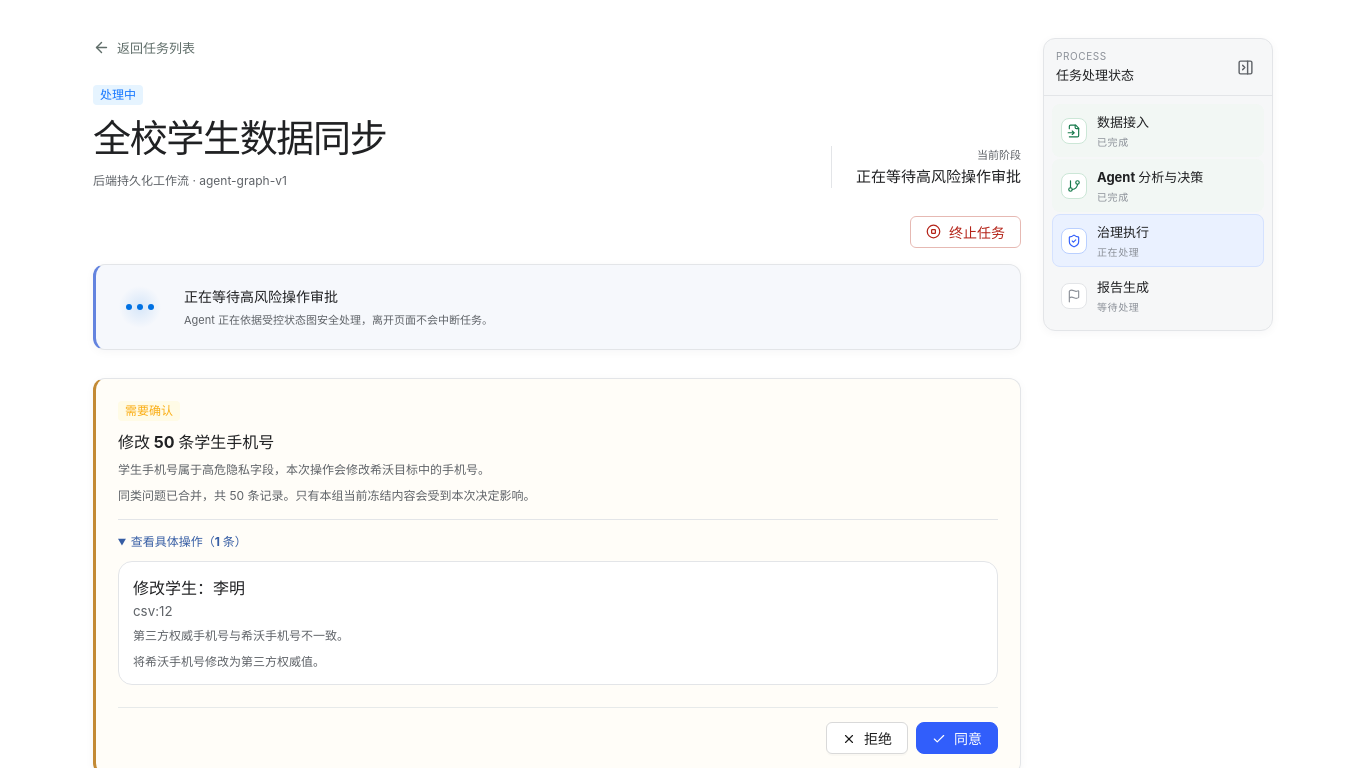
Scenario: controlled Agent graph task detail › keeps independent decisions on visually distinct approval groups
Click the button "同意": coordinates (957, 738) 916,722 -> 998,754
(page scrolled)
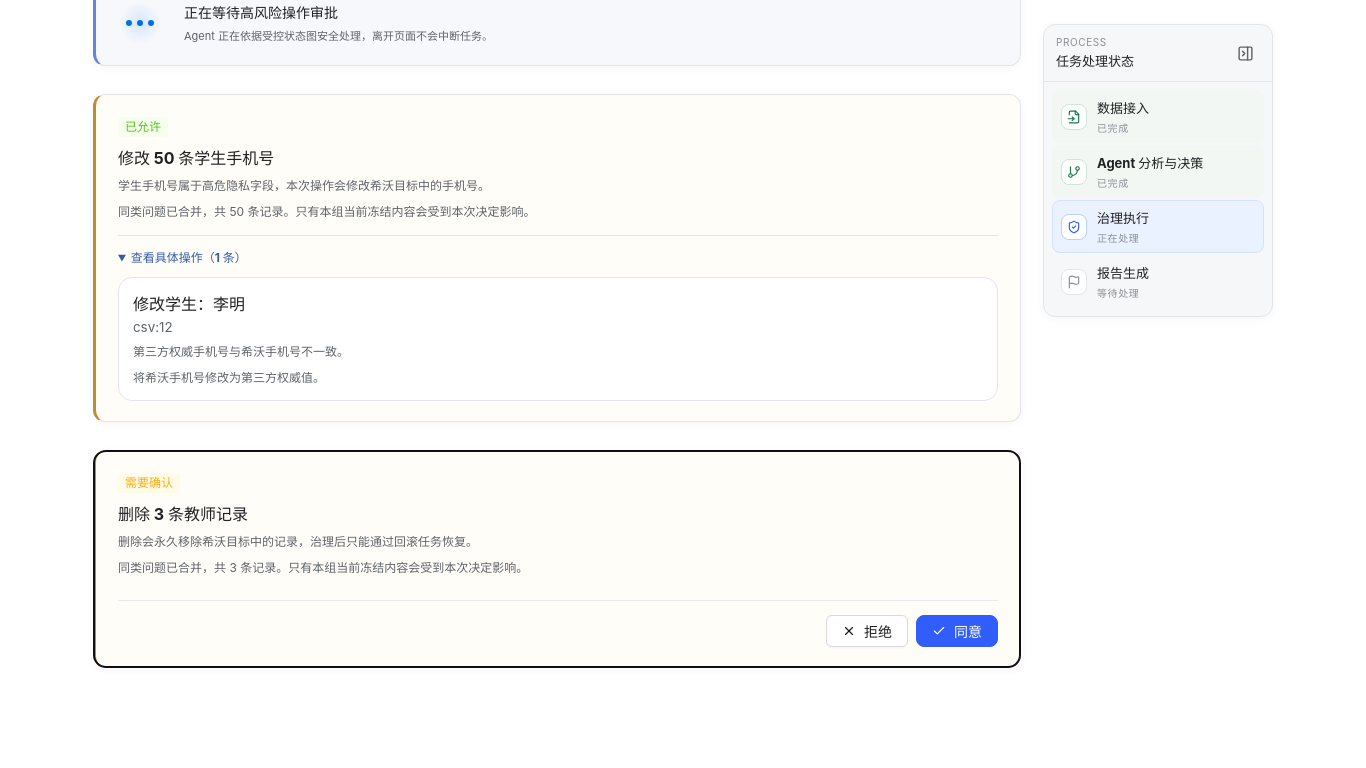
Check: the button "同意" is shown, box 916,615 -> 998,647
Check: the text "已允许" is shown, box 118,116 -> 168,136
